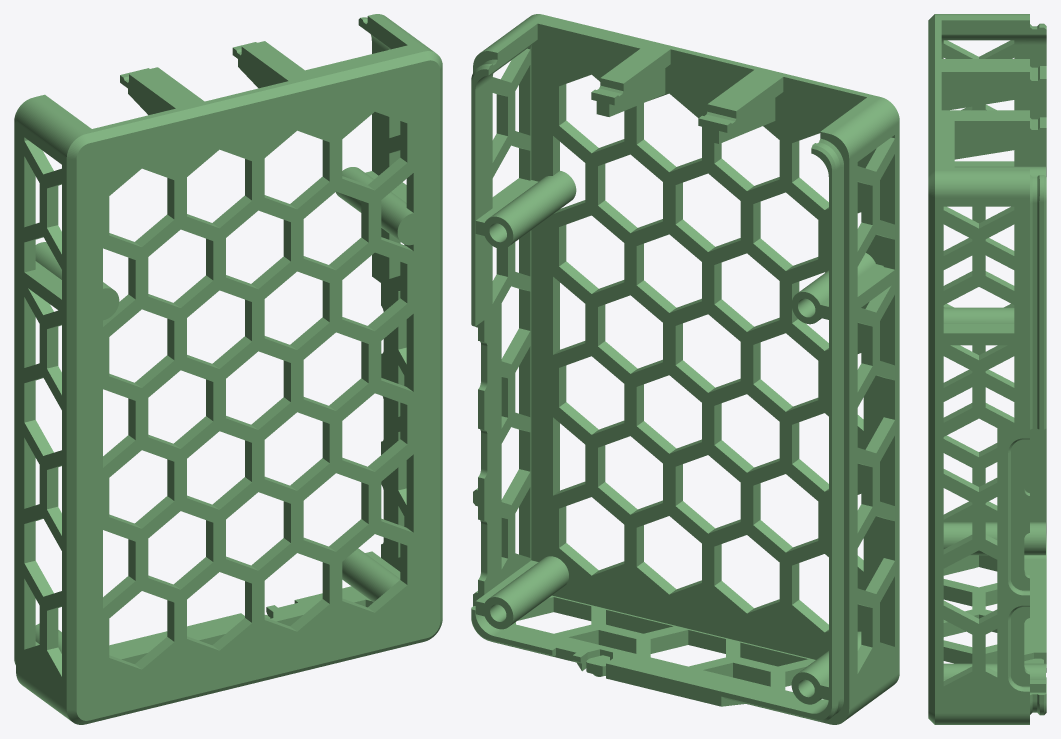
The model's file is other-homeracker-pi5-case-6.glb.
The picture shows the model from 3 angles, left to right: view 1: azimuth 30°, elevation 25°; view 2: azimuth 150°, elevation 25°; view 3: azimuth 270°, elevation 25°; orthographic projection. The views are drawn at different scales.
Parts seen in each view (by area): view 1: HomeRacker+-+Pi5+Case.3mf; view 2: HomeRacker+-+Pi5+Case.3mf; view 3: HomeRacker+-+Pi5+Case.3mf.
Part boxes in pixels (x1=…): HomeRacker+-+Pi5+Case.3mf: x1=14, y1=14, x2=442, y2=724; HomeRacker+-+Pi5+Case.3mf: x1=471, y1=14, x2=899, y2=724; HomeRacker+-+Pi5+Case.3mf: x1=928, y1=14, x2=1046, y2=724.
Size of the model in its own units: 60 by 90.8 by 17.5.
